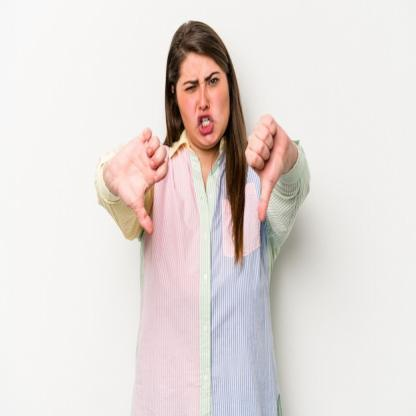thumb_down: (245, 110, 292, 225)
